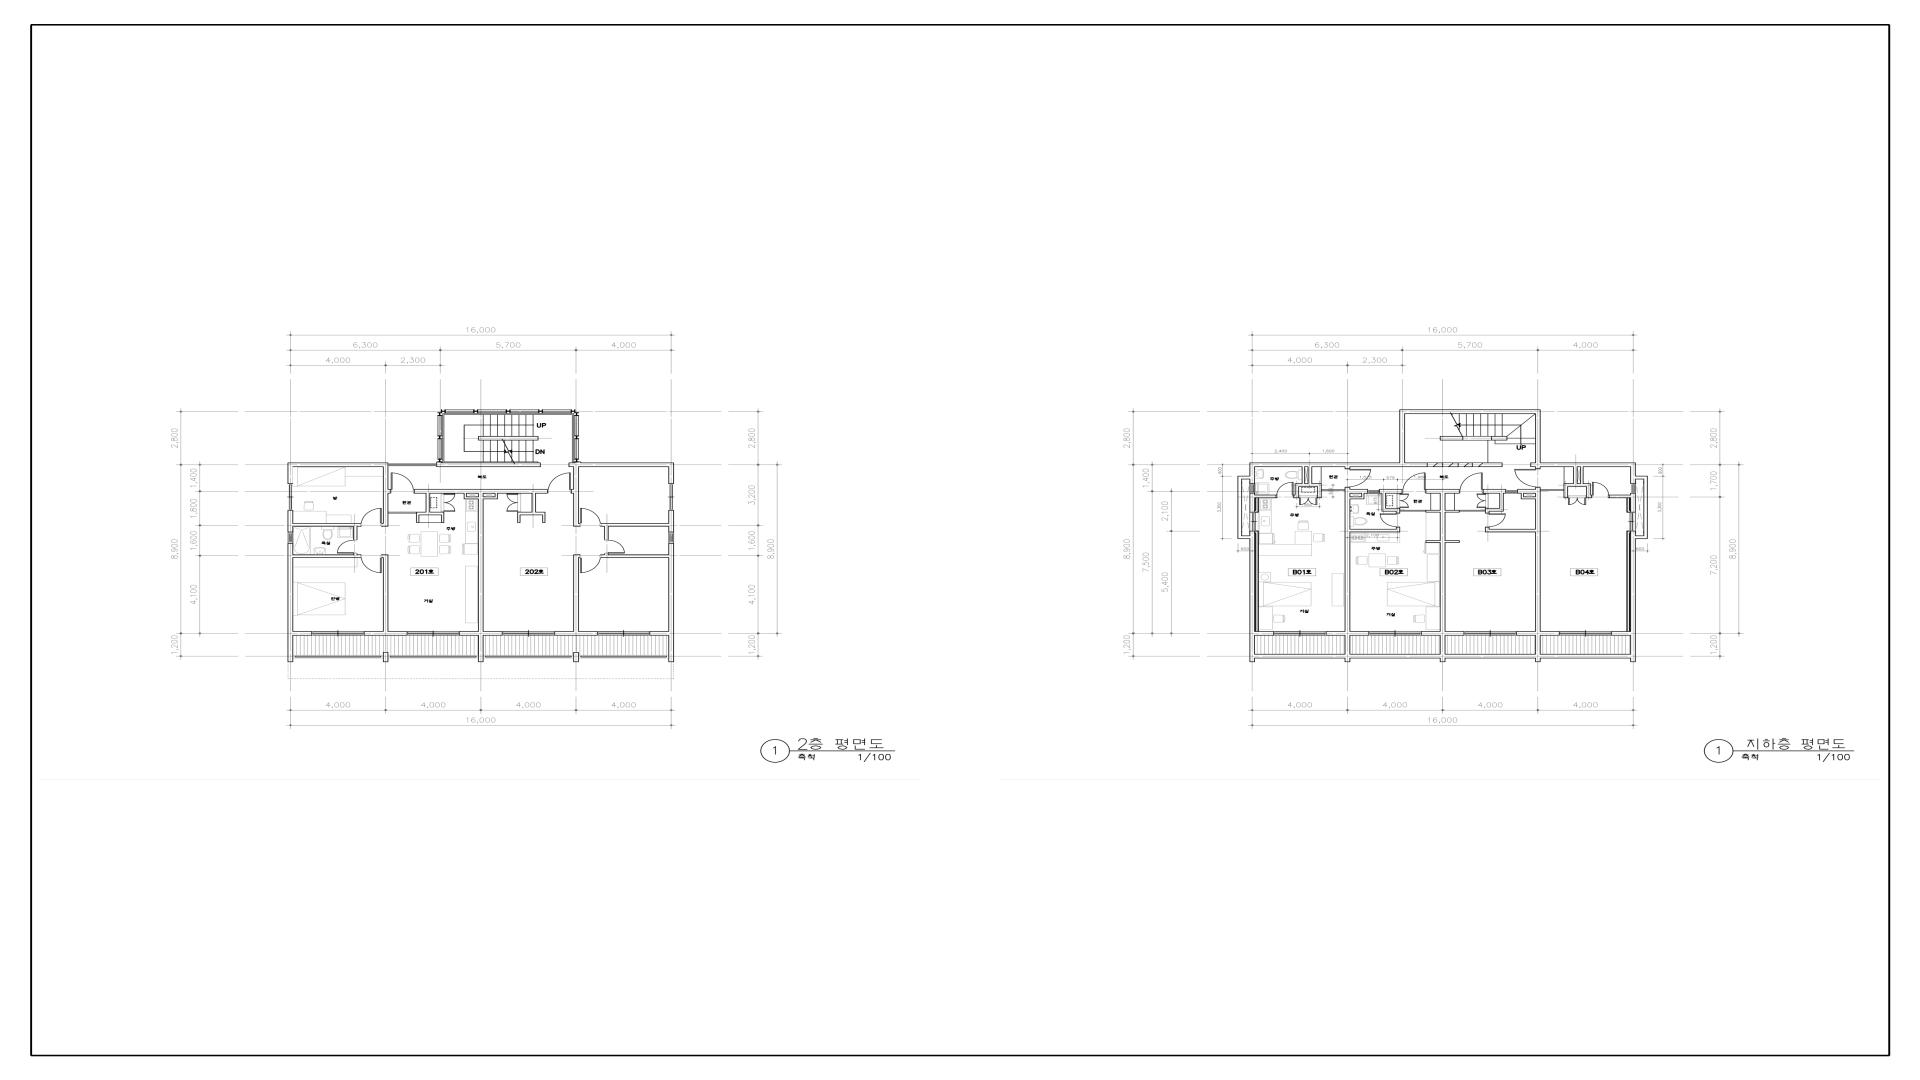door: (390, 472, 414, 493), (1460, 472, 1484, 493), (1402, 472, 1425, 493), (1345, 468, 1371, 487), (549, 472, 571, 493), (1515, 469, 1540, 488), (360, 554, 382, 574), (580, 554, 601, 574), (361, 508, 382, 527), (579, 508, 601, 526), (1379, 513, 1400, 527), (1592, 481, 1609, 498), (605, 539, 625, 554), (338, 539, 357, 554), (1486, 513, 1506, 527), (1276, 483, 1294, 498), (506, 493, 521, 512), (440, 493, 455, 512), (1477, 493, 1489, 508), (1396, 493, 1408, 508), (1568, 496, 1586, 505), (1299, 496, 1317, 505)
wall: (1345, 488, 1350, 662), (1535, 488, 1540, 662), (1255, 463, 1428, 468), (479, 493, 484, 662), (1440, 493, 1445, 662), (1630, 531, 1636, 662), (1531, 463, 1636, 469), (1250, 531, 1255, 662), (287, 543, 293, 662), (669, 543, 674, 662), (568, 462, 674, 467), (436, 462, 541, 467), (571, 467, 580, 526), (414, 489, 549, 493), (1406, 410, 1535, 414), (574, 555, 580, 632), (382, 555, 389, 632), (382, 467, 390, 526), (293, 463, 389, 467), (1255, 654, 1345, 658), (1350, 654, 1440, 658), (1445, 654, 1535, 658), (1540, 654, 1630, 658), (1399, 410, 1406, 463), (1427, 463, 1502, 467), (1535, 409, 1540, 463), (1485, 527, 1536, 533), (601, 554, 669, 558), (293, 554, 360, 558), (1350, 527, 1400, 533), (601, 524, 669, 526), (293, 524, 360, 526), (554, 632, 597, 636), (364, 632, 407, 636), (287, 510, 294, 533), (1425, 489, 1460, 493), (669, 510, 674, 533), (517, 512, 546, 516), (1630, 467, 1636, 484), (287, 463, 293, 484), (1250, 463, 1255, 484), (417, 512, 444, 516), (1250, 493, 1255, 513), (1631, 493, 1636, 513), (1382, 508, 1400, 513), (1485, 508, 1503, 513), (1379, 489, 1403, 493), (669, 467, 674, 484), (1609, 495, 1631, 498), (1484, 489, 1506, 493), (1255, 495, 1276, 498), (1325, 632, 1345, 636), (1445, 632, 1465, 636), (1540, 632, 1560, 636), (1611, 632, 1631, 636), (426, 493, 430, 512), (1255, 632, 1274, 636), (1350, 632, 1369, 636), (1422, 632, 1440, 636), (1516, 632, 1535, 636), (531, 493, 535, 512), (484, 632, 502, 636), (459, 632, 477, 636), (294, 632, 313, 636), (650, 632, 669, 636), (1295, 484, 1321, 487), (1564, 484, 1590, 487), (604, 526, 609, 539), (1302, 467, 1305, 484), (1308, 467, 1312, 484), (1580, 467, 1584, 484), (1350, 489, 1367, 493), (1518, 489, 1535, 493), (1294, 487, 1299, 498), (1573, 467, 1577, 483), (1586, 487, 1592, 498), (1499, 493, 1503, 508), (1382, 493, 1386, 508), (574, 651, 579, 662), (353, 526, 357, 539), (382, 653, 388, 662), (1317, 487, 1321, 498), (1564, 487, 1568, 498), (464, 497, 479, 500), (1520, 497, 1535, 500), (1425, 541, 1440, 543), (1445, 541, 1460, 543), (1445, 510, 1460, 513), (1425, 510, 1440, 513), (1350, 497, 1365, 500), (542, 516, 546, 524), (517, 516, 521, 524), (484, 497, 495, 500), (495, 493, 498, 500), (417, 516, 419, 524), (442, 516, 444, 522), (1520, 493, 1524, 497), (1361, 493, 1365, 497), (464, 493, 467, 497)
window: (1464, 630, 1516, 637), (1369, 630, 1422, 637), (502, 630, 555, 637), (597, 630, 650, 637), (313, 630, 364, 637), (1274, 630, 1325, 637), (1560, 630, 1611, 637), (407, 630, 459, 637), (388, 655, 479, 658), (293, 655, 382, 658), (579, 655, 669, 658), (484, 655, 574, 658), (287, 484, 294, 510), (669, 484, 674, 510), (1250, 512, 1257, 531), (444, 409, 475, 413), (477, 409, 508, 413), (509, 409, 539, 413), (542, 409, 572, 413), (574, 438, 579, 460), (574, 415, 579, 436), (1630, 513, 1635, 531), (438, 438, 442, 460), (438, 415, 442, 436), (389, 464, 436, 465), (287, 533, 293, 543), (669, 533, 674, 543), (1250, 484, 1255, 493), (1633, 484, 1636, 493), (1367, 491, 1379, 493), (1506, 491, 1518, 493)
